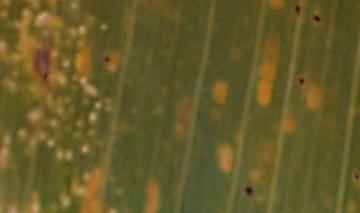tarspot: (312, 13, 322, 23), (245, 186, 253, 195), (294, 4, 300, 16), (103, 55, 110, 62), (299, 77, 305, 85), (43, 72, 49, 79), (354, 173, 360, 179)
